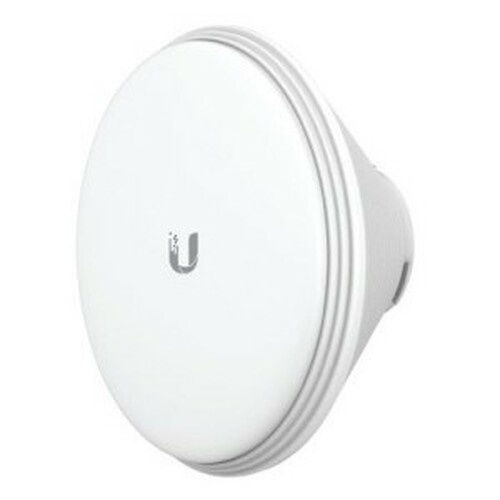ba: (31, 6, 430, 492)
